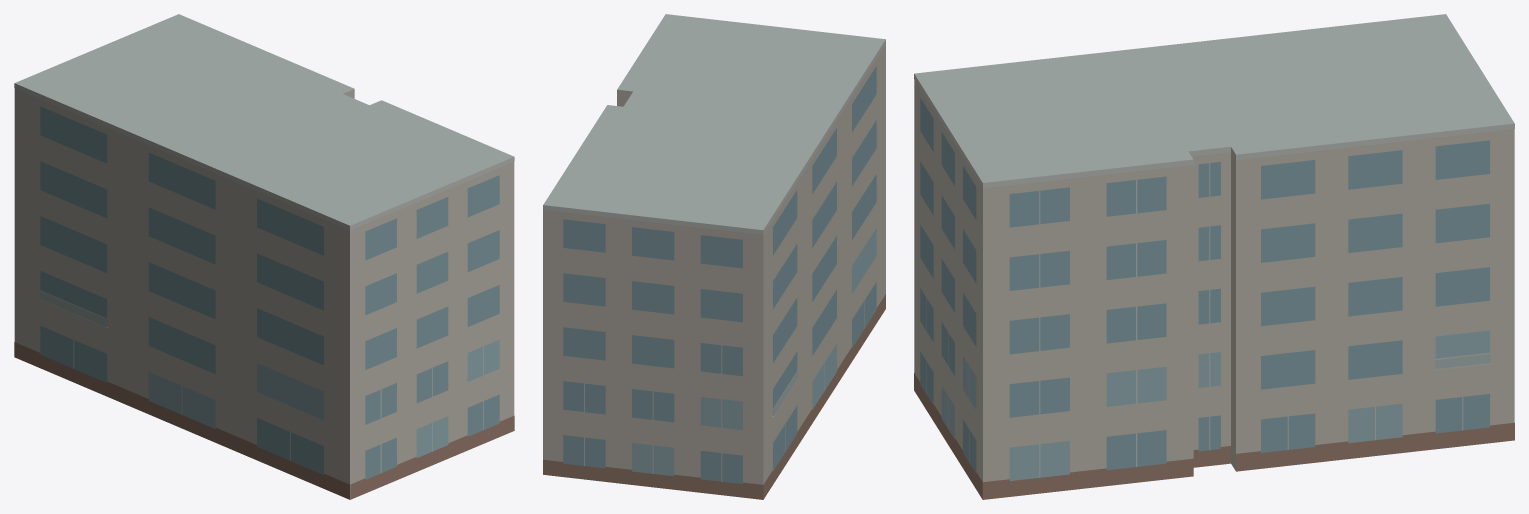
Rendered from survey-upis-32907210.glb.
3 views of the same model, side by side, from view 1: azimuth 30°, elevation 25°; view 2: azimuth 150°, elevation 25°; view 3: azimuth 270°, elevation 25° (orthographic). The views are drawn at different scales.
Visible parts, largest first — view 1: survey-upis-32907210.tmp; view 2: survey-upis-32907210.tmp; view 3: survey-upis-32907210.tmp.
Boxes of the visible parts, x1=… form: survey-upis-32907210.tmp: x1=14, y1=14, x2=514, y2=499; survey-upis-32907210.tmp: x1=543, y1=14, x2=885, y2=499; survey-upis-32907210.tmp: x1=914, y1=14, x2=1514, y2=499.
Bounding box in the file's own units: 16.14 × 14.1 × 24.23.
